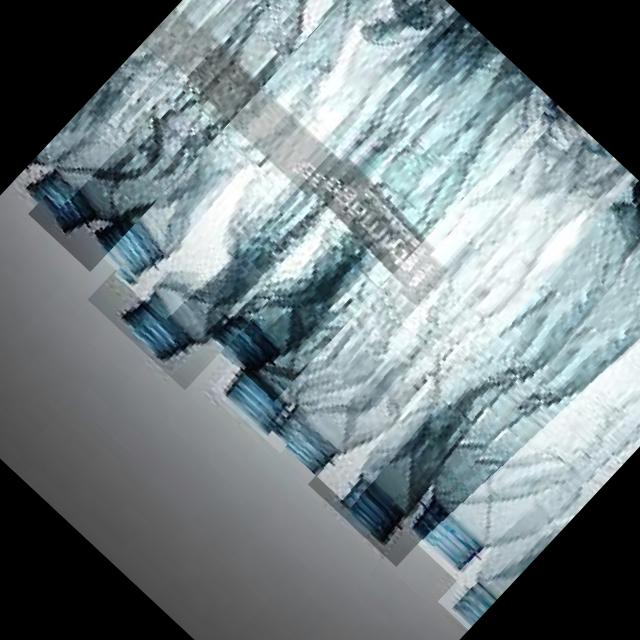plastic bottle: (266, 109, 640, 506), (180, 13, 554, 401), (210, 62, 582, 452), (307, 155, 640, 565), (382, 211, 640, 597), (27, 0, 390, 270), (437, 278, 640, 629), (21, 0, 342, 207), (62, 96, 281, 316), (88, 202, 274, 389)
